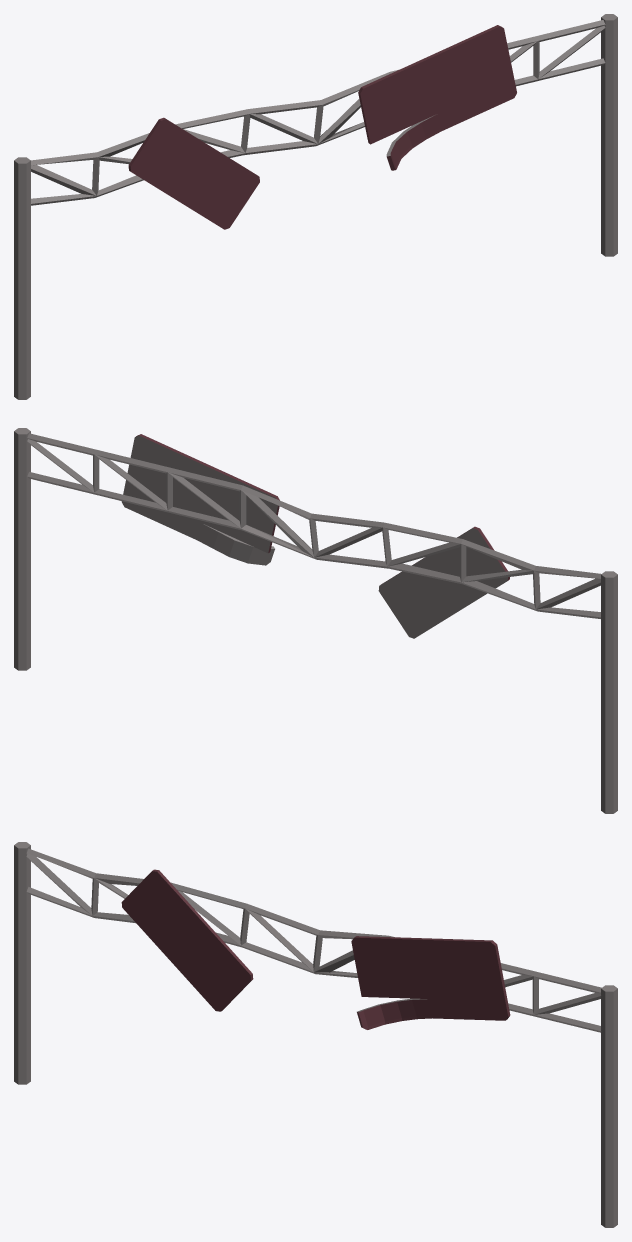
The model's file is mainroad-sign-green-apocalypse-a.fbx.
3 renders of one model, top to bottom at view 1: azimuth 30°, elevation 25°; view 2: azimuth 150°, elevation 25°; view 3: azimuth 330°, elevation 25°, orthographic.
Visible parts, largest first — view 1: mainroad-sign-green-apocalypse-a; view 2: mainroad-sign-green-apocalypse-a; view 3: mainroad-sign-green-apocalypse-a.
Part boxes in pixels (x1,y1,x2,y2): mainroad-sign-green-apocalypse-a: (14, 14, 617, 399); mainroad-sign-green-apocalypse-a: (14, 428, 617, 813); mainroad-sign-green-apocalypse-a: (14, 842, 617, 1227).
Size of the model in its own units: 16.35 by 6.72 by 0.9586.
